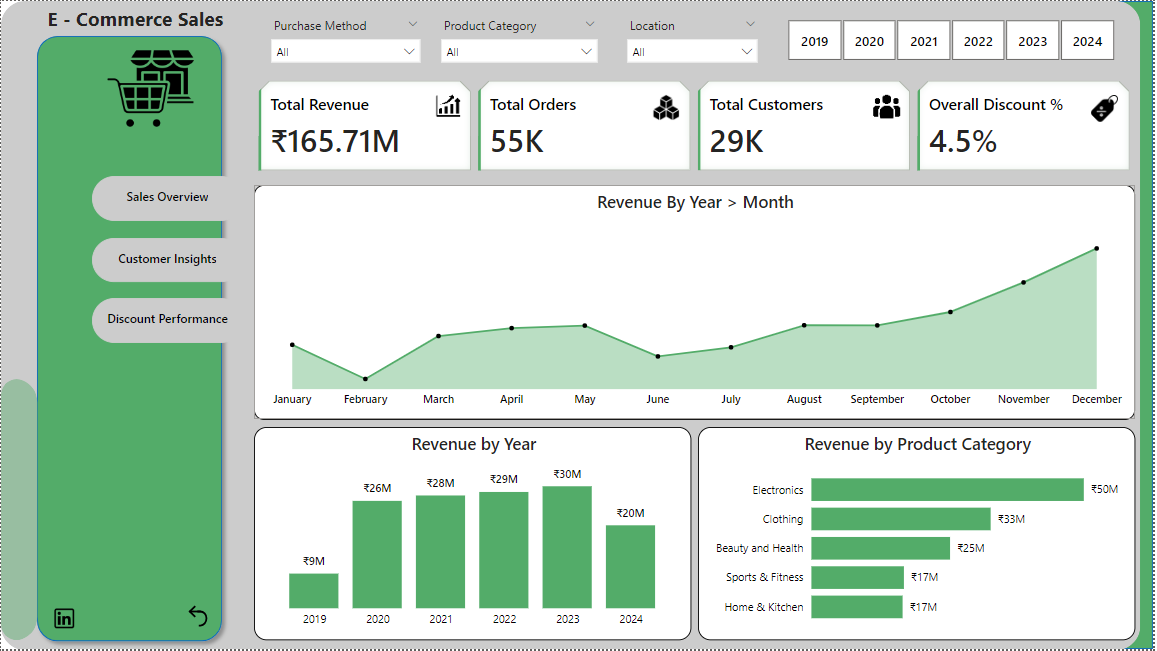

This screenshot's page, from the dashboard's own definition file:
{"tool":"powerbi","page":{"name":"Sales Performance","canvas":[1280,720],"ordinal":0},"visuals":[{"type":"shape","box":[1241.3,0,38.7,720],"z":0},{"type":"shape","box":[0,0,1265.8,721.3],"z":1000},{"type":"shape","box":[31,29.7,223.2,690.3],"z":2000},{"type":"actionButton","box":[100.6,263.2,167.7,49],"z":4000},{"type":"actionButton","box":[100.6,330.3,167.7,50.3],"z":5000},{"type":"barChart","title":"Revenue by Product Category","fields":{"Category":["E-Commerce.Product Category"],"Y":["Report Measures.Total Revenue"]},"box":[774.2,473.5,486.5,237.4],"z":6000},{"type":"lineChart","title":"Revenue By Year > Month","fields":{"Y":["Report Measures.Total Revenue"],"Category":["E-Commerce.Year","E-Commerce.Month Name"]},"box":[281.5,204.1,978.8,260.8],"z":7000},{"type":"slicer","fields":{"Values":["E-Commerce.Product Category"]},"box":[479.2,12.9,193.5,59.4],"z":9000},{"type":"slicer","fields":{"Values":["E-Commerce.Location"]},"box":[685.2,12.9,165.2,59.4],"z":10000},{"type":"slicer","fields":{"Values":["E-Commerce.Purchase Method"]},"box":[290.3,12.9,185.5,57.8],"z":11000},{"type":"columnChart","title":"Revenue by Year","fields":{"Y":["Report Measures.Total Revenue"],"Category":["E-Commerce.Year"]},"box":[281.3,473.5,486.5,237.4],"z":12000},{"type":"cardVisual","fields":{"Data":["Report Measures.Total Revenue","Report Measures.total orders","Report Measures.total customers","Report Measures.Discount %"]},"box":[281.3,83.9,979.4,111],"z":13000},{"type":"image","box":[113.5,42.6,105.8,110.2],"z":14000},{"type":"slicer","fields":{"Values":["E-Commerce.Year"]},"box":[849,14.2,411.6,58.1],"z":15000},{"type":"image","box":[52.9,669.7,33.5,32.3],"z":16000},{"type":"actionButton","box":[202.6,664.5,33.5,37.4],"z":17000},{"type":"shape","box":[0,420.1,69.8,290.3],"z":18000},{"type":"textbox","box":[46.9,0,221.5,41.5],"z":19000},{"type":"actionButton","box":[100.6,194.8,167.7,50.3],"z":19001}]}

Visuals, with their boxes in screenshot pixels (x1, y1, x2, y2), scaled from the page's 1280x720 canvas onto the 1157x651 screenshot:
shape: x1=1122 y1=0 x2=1156 y2=650
shape: x1=0 y1=0 x2=1144 y2=650
shape: x1=28 y1=27 x2=230 y2=650
actionButton: x1=91 y1=238 x2=243 y2=282
actionButton: x1=91 y1=299 x2=243 y2=344
"Revenue by Product Category" barChart: x1=700 y1=428 x2=1140 y2=643
"Revenue By Year > Month" lineChart: x1=254 y1=185 x2=1139 y2=420
slicer - E-Commerce.Product Category: x1=433 y1=12 x2=608 y2=65
slicer - E-Commerce.Location: x1=619 y1=12 x2=769 y2=65
slicer - E-Commerce.Purchase Method: x1=262 y1=12 x2=430 y2=64
"Revenue by Year" columnChart: x1=254 y1=428 x2=694 y2=643
cardVisual - Report Measures.Total Revenue x Report Measures.total orders: x1=254 y1=76 x2=1140 y2=176
image: x1=103 y1=39 x2=198 y2=138
slicer - E-Commerce.Year: x1=767 y1=13 x2=1139 y2=65
image: x1=48 y1=606 x2=78 y2=635
actionButton: x1=183 y1=601 x2=213 y2=635
shape: x1=0 y1=380 x2=63 y2=642
textbox: x1=42 y1=0 x2=243 y2=38
actionButton: x1=91 y1=176 x2=243 y2=222
